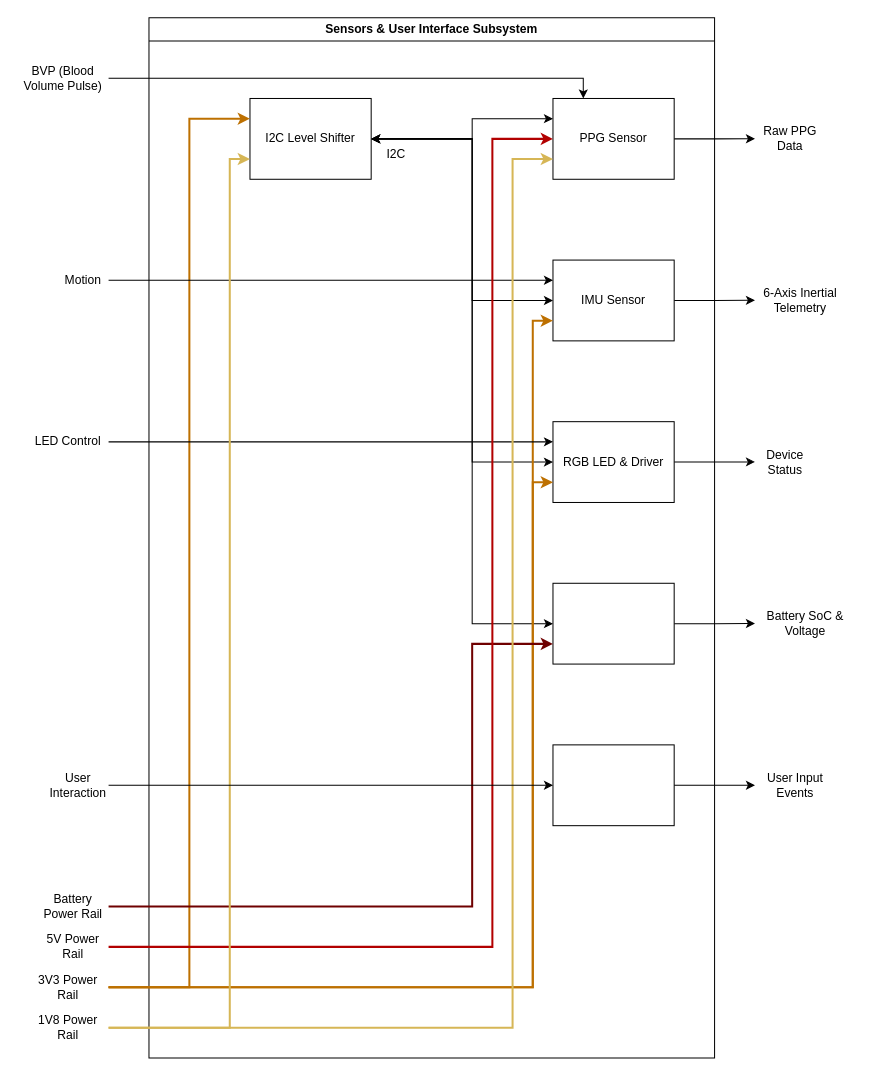
Some shapes in this 873 by 1076 pixel diagram are drawn without their labels. The centre of each missing label's shape, as x and y in pixels:
"Fuel Gauge" belongs at pixel 613 623.
"Mode/Power Button" belongs at pixel 613 785.
